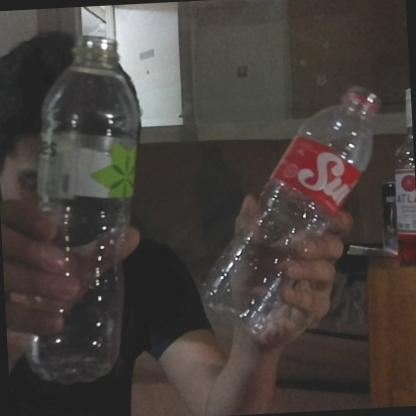plastic_bottles: (202, 76, 394, 332), (20, 35, 146, 376)
